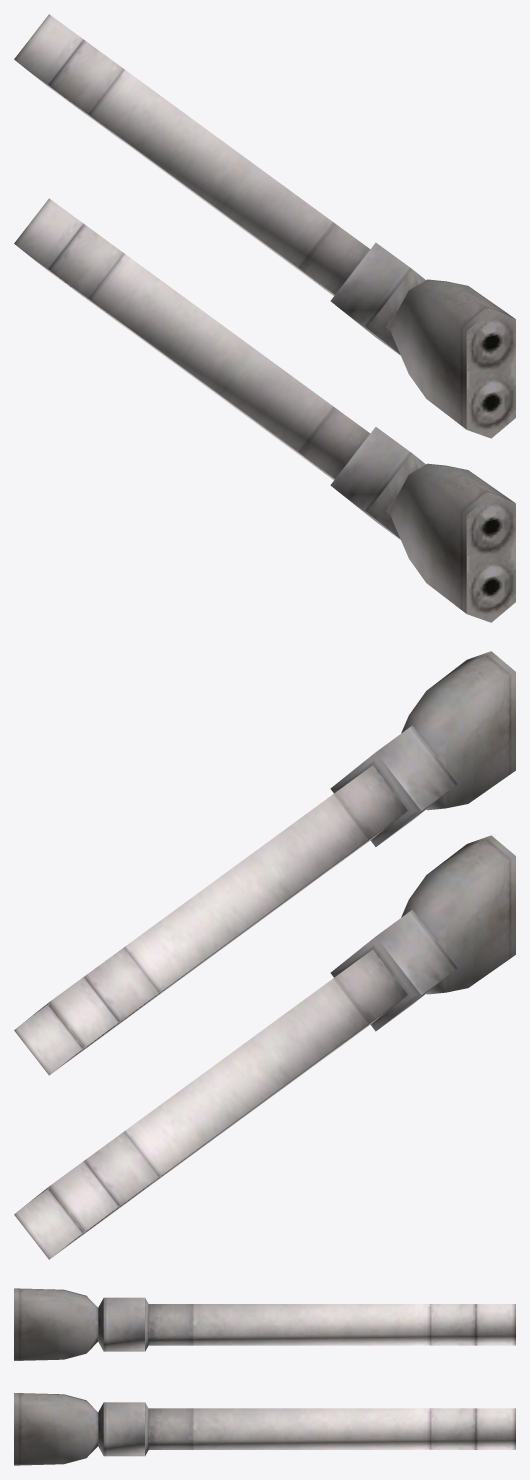
Rendered from yt1300_turret_barrel_s01_l1.fbx.
3 views of the same model, one above another, from view 1: azimuth 30°, elevation 25°; view 2: azimuth 150°, elevation 25°; view 3: azimuth 270°, elevation 25° (orthographic). The views are drawn at different scales.
Parts seen in each view (by area): view 1: mesh_node; view 2: mesh_node; view 3: mesh_node.
Boxes of the visible parts, left/top/right/bottom form: mesh_node: left=14, top=14, right=515, bottom=622; mesh_node: left=14, top=651, right=515, bottom=1259; mesh_node: left=14, top=1288, right=515, bottom=1465.
Bounding box in the file's own units: 0.201 × 0.6596 × 1.69.
1 material, 1 textured.
